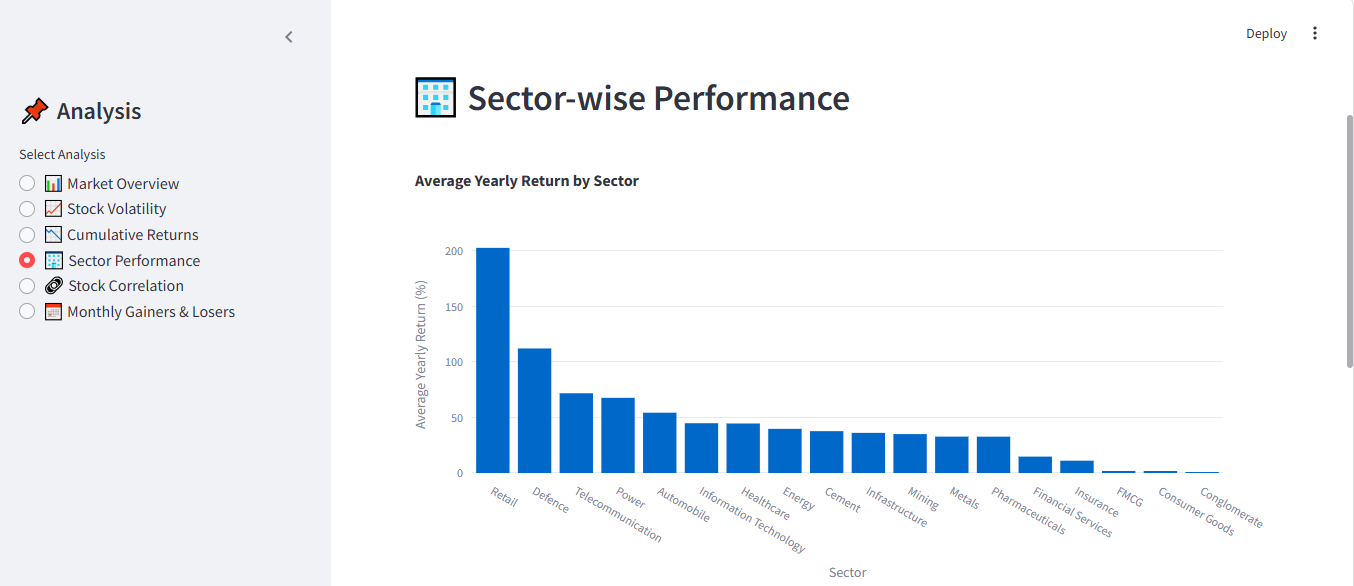

What the dashboard file says about the page in this screenshot:
{"tool":"powerbi","page":{"name":"Page 2","canvas":[1920,1080],"ordinal":1},"visuals":[{"type":"clusteredColumnChart","title":"Average Yearly Return by Sector","fields":{"Category":["stock_analysis sector_performance.Sector"],"Y":["Avg(stock_analysis sector_performance.Average_Yearly_Return)"]},"box":[17.4,43.5,1281.2,600],"z":0}]}

Visuals, with their boxes on the page's 1920x1080 design canvas (x1, y1, x2, y2). These are canvas units, not pixel positions in the 1354x586 screenshot, which may show the page scaled, cropped or inside an application window:
"Average Yearly Return by Sector" clusteredColumnChart: bbox=(17, 44, 1299, 644)
